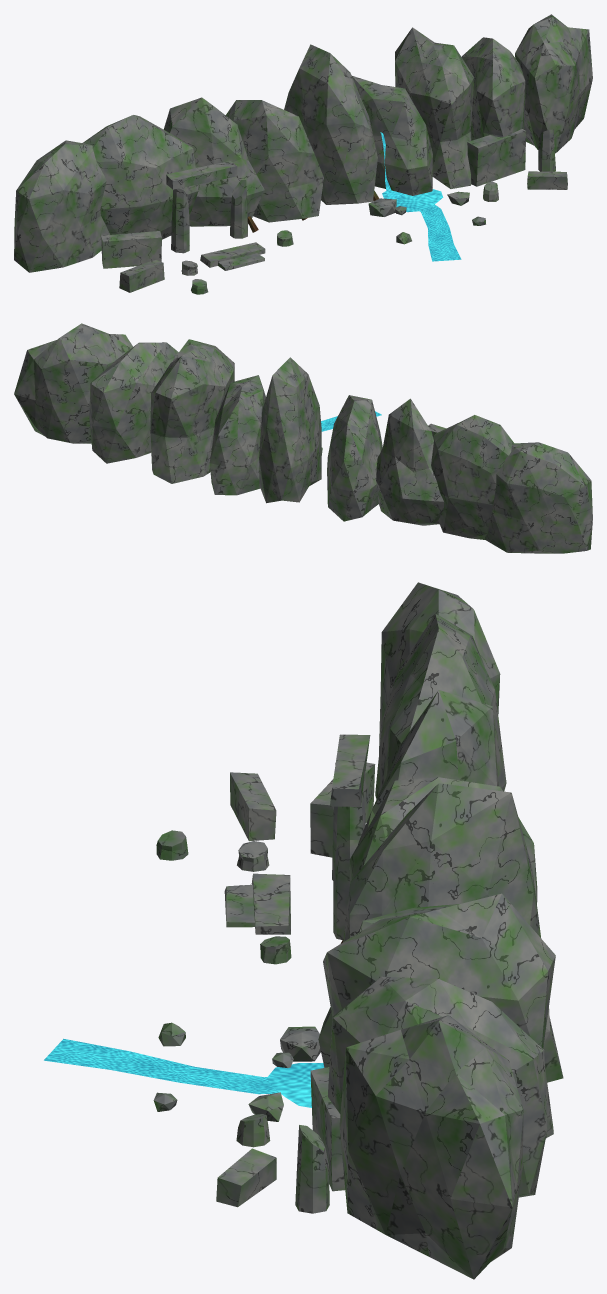
The model's file is ruin_waterfall.glb.
The picture shows the model from 3 angles, top to bottom: view 1: azimuth 30°, elevation 25°; view 2: azimuth 150°, elevation 25°; view 3: azimuth 270°, elevation 25°; orthographic projection. The views are drawn at different scales.
Parts seen in each view (by area): view 1: ruin_waterfall__stone, ruin_waterfall__water; view 2: ruin_waterfall__stone; view 3: ruin_waterfall__stone, ruin_waterfall__water.
Part boxes in pixels (x1,y1,x2,y2): ruin_waterfall__stone: (14, 14, 592, 294); ruin_waterfall__water: (380, 132, 461, 261); ruin_waterfall__stone: (14, 323, 592, 553); ruin_waterfall__stone: (153, 582, 563, 1279); ruin_waterfall__water: (44, 1038, 324, 1107).
Bounding box in the file's own units: 34.64 × 7.66 × 14.04.
Materials: 3 (3 with a texture image).
